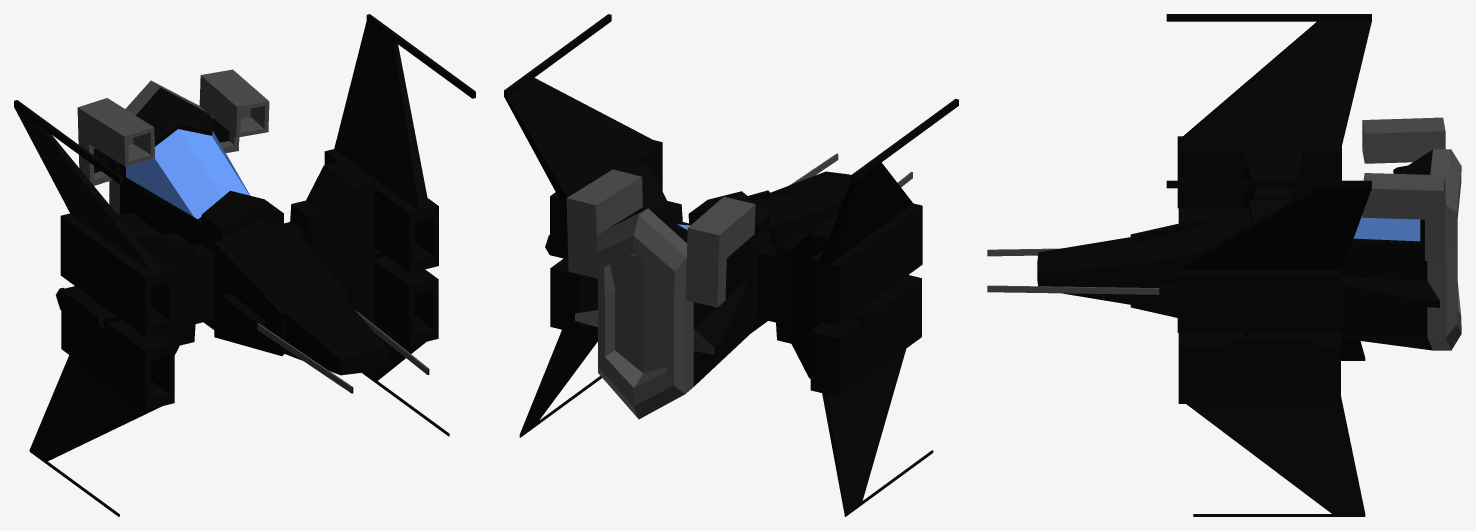
File: GalacticMirage.fbx
3 views of the same model, side by side, from view 1: azimuth 30°, elevation 25°; view 2: azimuth 150°, elevation 25°; view 3: azimuth 270°, elevation 25° (orthographic). The views are drawn at different scales.
Parts seen in each view (by area): view 1: GalacticMirage; view 2: GalacticMirage; view 3: GalacticMirage.
Boxes of the visible parts, bbox=[...] form: GalacticMirage: bbox=[14, 14, 475, 516]; GalacticMirage: bbox=[504, 14, 958, 516]; GalacticMirage: bbox=[987, 14, 1461, 516].
Bounding box in the file's own units: 27.31 × 25.79 × 32.56.
